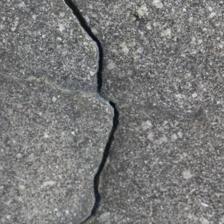Crack: (0, 0, 89, 100), (29, 6, 77, 118)
